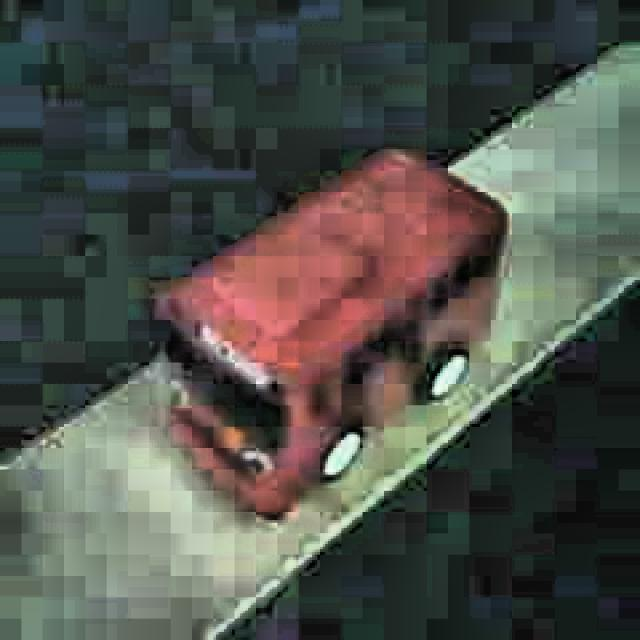bus: (146, 142, 508, 520)
